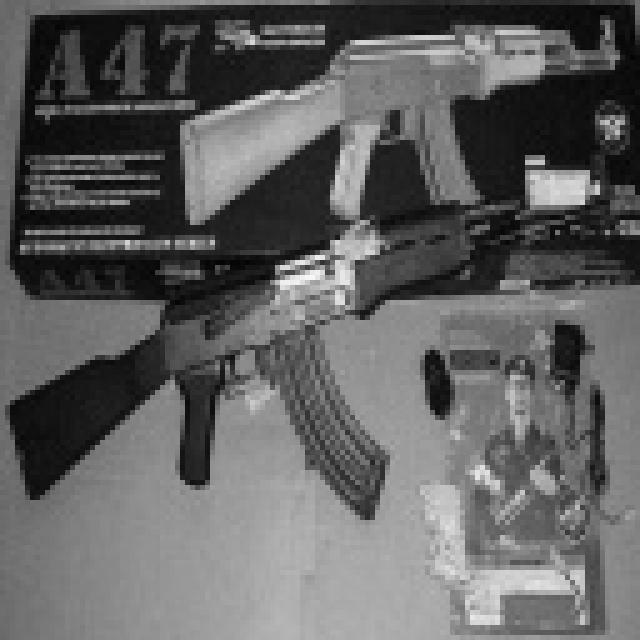Rifle: (0, 179, 618, 534), (161, 10, 640, 232)
